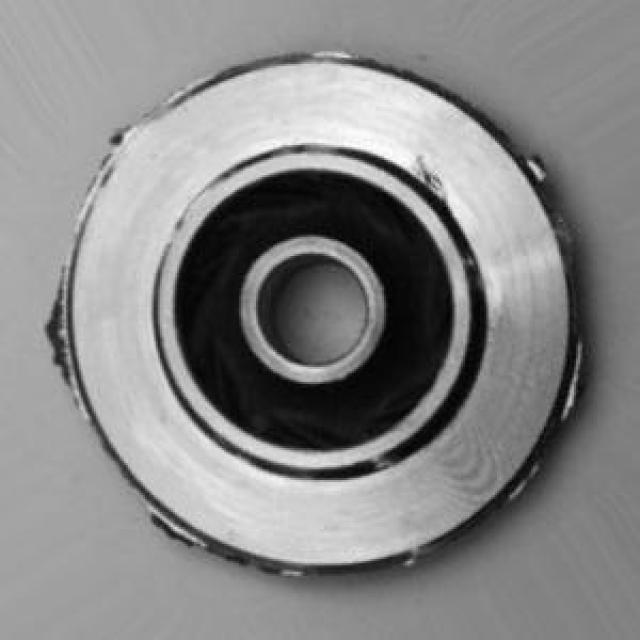Defect: (407, 152, 447, 206)
